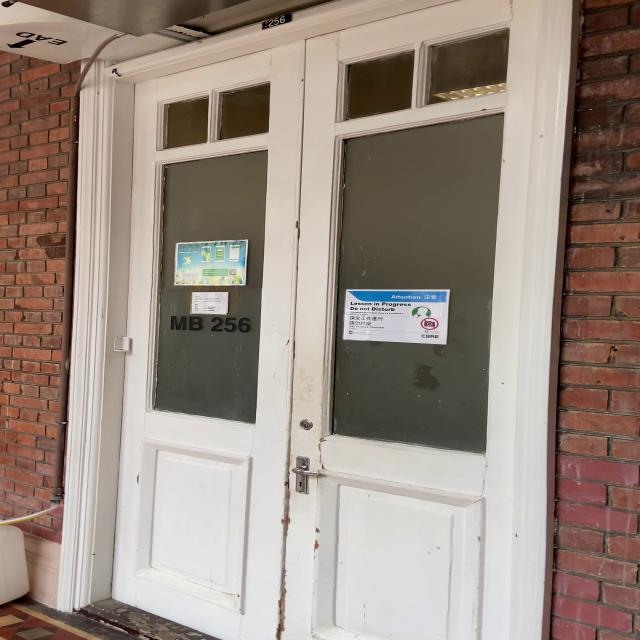room256: (256, 12, 301, 32)
room256Window: (166, 312, 255, 338)
